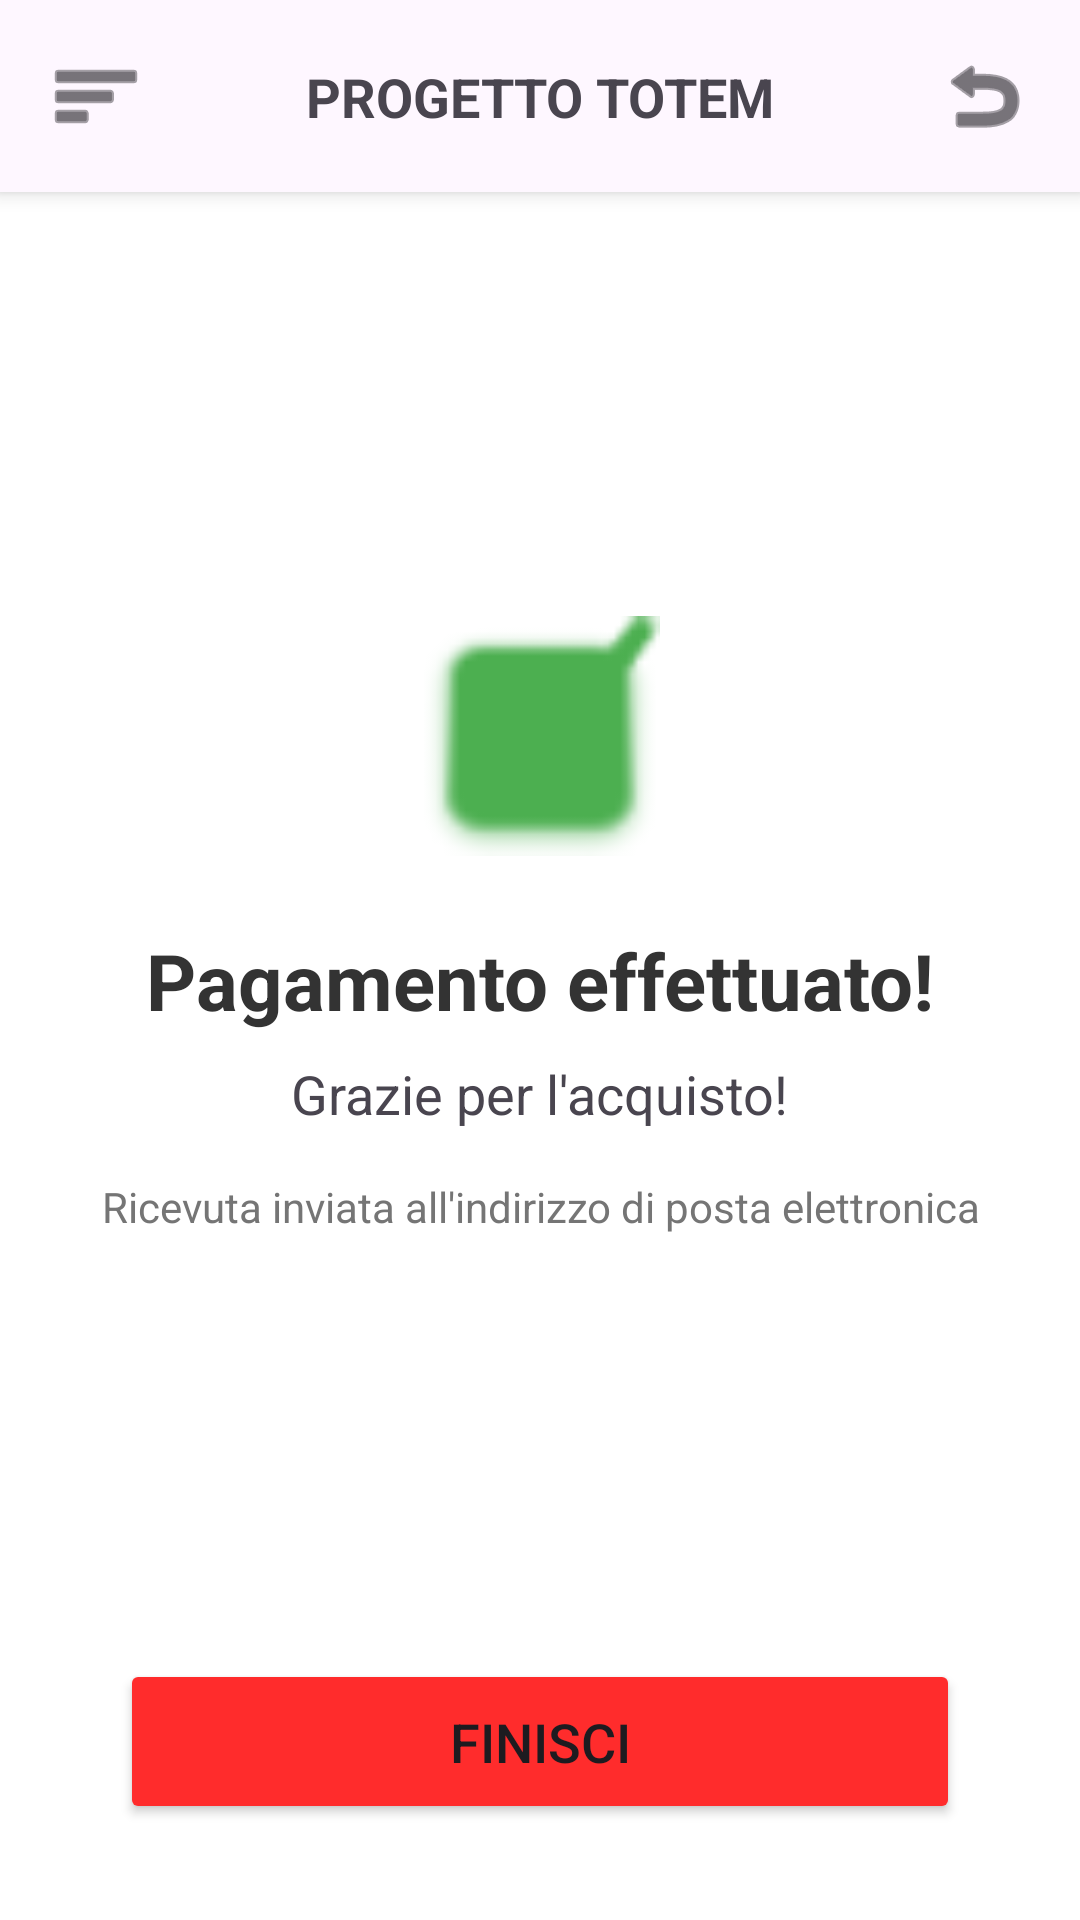

Point at icon controls on the screen. Image size 1080 × 1920, points as (x=x, y=y).
Indietro: (x=985, y=96)
Menu: (x=96, y=96)
